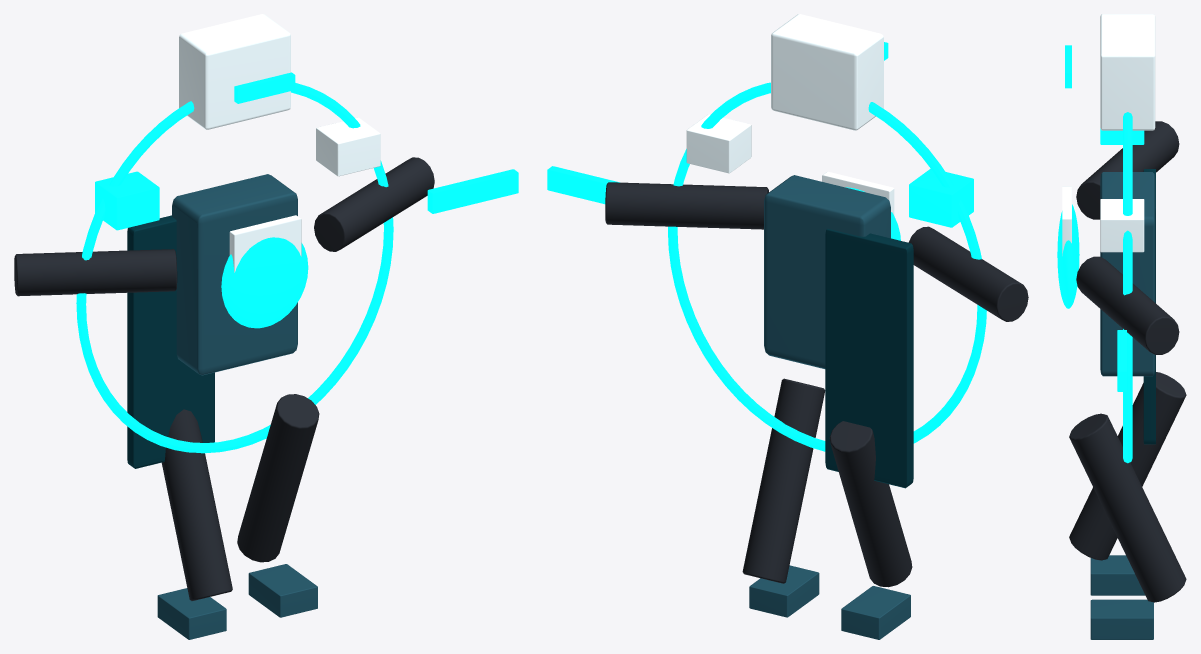
Rendered from cg_guardian_player.glb.
3 views of the same model, side by side, from view 1: azimuth 30°, elevation 25°; view 2: azimuth 150°, elevation 25°; view 3: azimuth 270°, elevation 25° (orthographic).
Parts seen in each view (by area): view 1: guardian_body_armor, guardian_fragmented_data_cape, guardian_helmet, guardian_shield_halo, guardian_left_leg, guardian_right_leg, guardian_left_arm, guardian_security_core, guardian_right_arm, guardian_right_shoulder_plate, guardian_left_shoulder_plate, guardian_right_boot (+4 smaller); view 2: guardian_fragmented_data_cape, guardian_body_armor, guardian_helmet, guardian_right_leg, guardian_shield_halo, guardian_left_leg, guardian_right_arm, guardian_left_arm, guardian_right_shoulder_plate, guardian_left_shoulder_plate, guardian_left_boot, guardian_right_boot (+2 smaller); view 3: guardian_right_leg, guardian_helmet, guardian_body_armor, guardian_left_leg, guardian_right_arm, guardian_left_arm, guardian_shield_halo, guardian_right_boot, guardian_right_shoulder_plate, guardian_left_boot, guardian_security_core, guardian_fragmented_data_cape (+4 smaller).
Boxes of the visible parts, x1,y1,x2,y2 form: guardian_body_armor: [172, 174, 297, 375]; guardian_fragmented_data_cape: [127, 215, 214, 468]; guardian_helmet: [179, 14, 290, 129]; guardian_shield_halo: [76, 83, 393, 453]; guardian_left_leg: [161, 409, 232, 600]; guardian_right_leg: [237, 394, 319, 562]; guardian_left_arm: [14, 249, 177, 296]; guardian_security_core: [221, 237, 308, 328]; guardian_right_arm: [314, 157, 434, 251]; guardian_right_shoulder_plate: [316, 117, 380, 176]; guardian_left_shoulder_plate: [95, 171, 159, 230]; guardian_right_boot: [248, 564, 317, 617]; guardian_fragmented_data_cape: [825, 228, 913, 488]; guardian_body_armor: [764, 175, 890, 368]; guardian_helmet: [771, 14, 883, 130]; guardian_right_leg: [742, 378, 825, 583]; guardian_shield_halo: [668, 82, 986, 451]; guardian_left_leg: [829, 421, 912, 587]; guardian_right_arm: [605, 182, 768, 229]; guardian_left_arm: [908, 226, 1028, 321]; guardian_right_shoulder_plate: [686, 114, 751, 173]; guardian_left_shoulder_plate: [909, 168, 973, 227]; guardian_left_boot: [841, 586, 910, 639]; guardian_right_boot: [749, 565, 819, 617]; guardian_right_leg: [1069, 413, 1186, 602]; guardian_helmet: [1100, 14, 1155, 130]; guardian_body_armor: [1100, 172, 1155, 376]; guardian_left_leg: [1069, 372, 1186, 560]; guardian_right_arm: [1076, 256, 1179, 354]; guardian_left_arm: [1076, 121, 1179, 219]; guardian_shield_halo: [1123, 112, 1132, 463]; guardian_right_boot: [1090, 599, 1153, 639]; guardian_right_shoulder_plate: [1100, 199, 1144, 252]; guardian_left_boot: [1090, 555, 1145, 595]; guardian_security_core: [1057, 204, 1079, 308]; guardian_fragmented_data_cape: [1143, 169, 1155, 444].
Size of the model in its own units: 1.93 by 2.18 by 0.4444.
